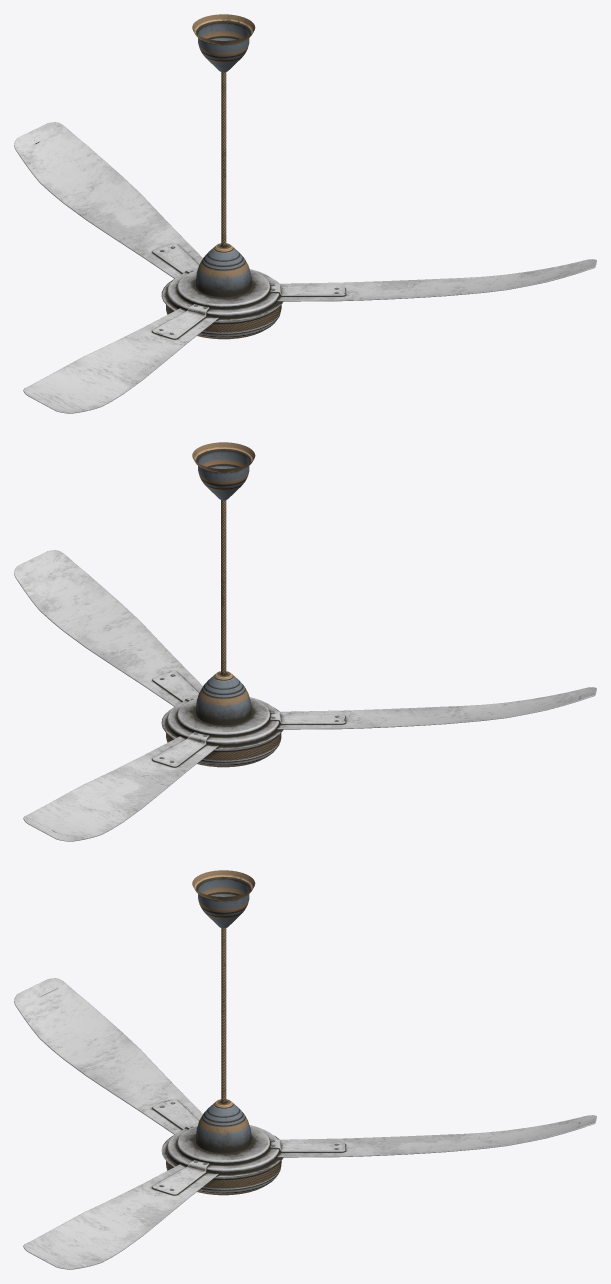
The model's file is conion__ceiling__fan_12_mb.glb.
The picture shows the model from 3 angles, top to bottom: view 1: azimuth 30°, elevation 25°; view 2: azimuth 150°, elevation 25°; view 3: azimuth 270°, elevation 25°; orthographic projection.
Parts seen in each view (by area): view 1: Cloner; view 2: Cloner; view 3: Cloner.
Boxes of the visible parts, bbox=[...] form: Cloner: bbox=[14, 14, 596, 413]; Cloner: bbox=[14, 442, 596, 841]; Cloner: bbox=[14, 870, 596, 1269].
Size of the model in its own units: 257 by 126 by 226.
Materials: 1 (1 with a texture image).
